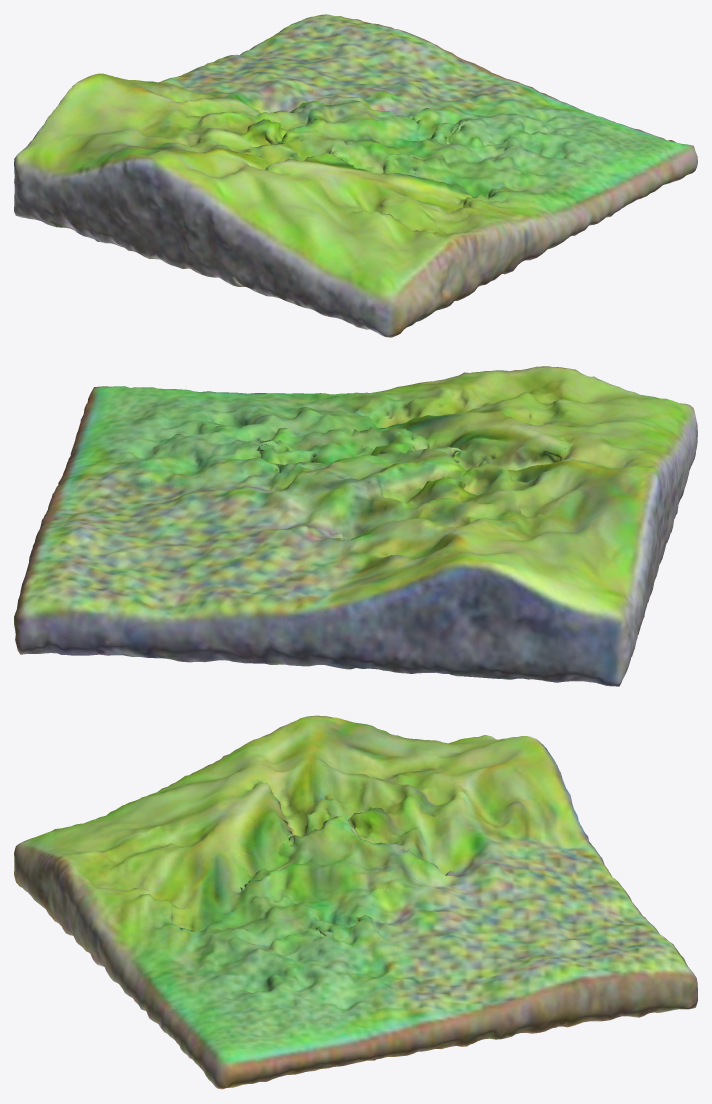
The model's file is land.glb.
The picture shows the model from 3 angles, top to bottom: view 1: azimuth 30°, elevation 25°; view 2: azimuth 150°, elevation 25°; view 3: azimuth 270°, elevation 25°; orthographic projection. The views are drawn at different scales.
Parts seen in each view (by area): view 1: Mesh1; view 2: Mesh1; view 3: Mesh1.
Boxes of the visible parts, x1,y1,x2,y2 form: Mesh1: [14, 14, 697, 337]; Mesh1: [14, 366, 697, 686]; Mesh1: [14, 715, 697, 1089].
Size of the model in its own units: 1.2 by 0.2337 by 1.18.
Materials: 1 (1 with a texture image).
